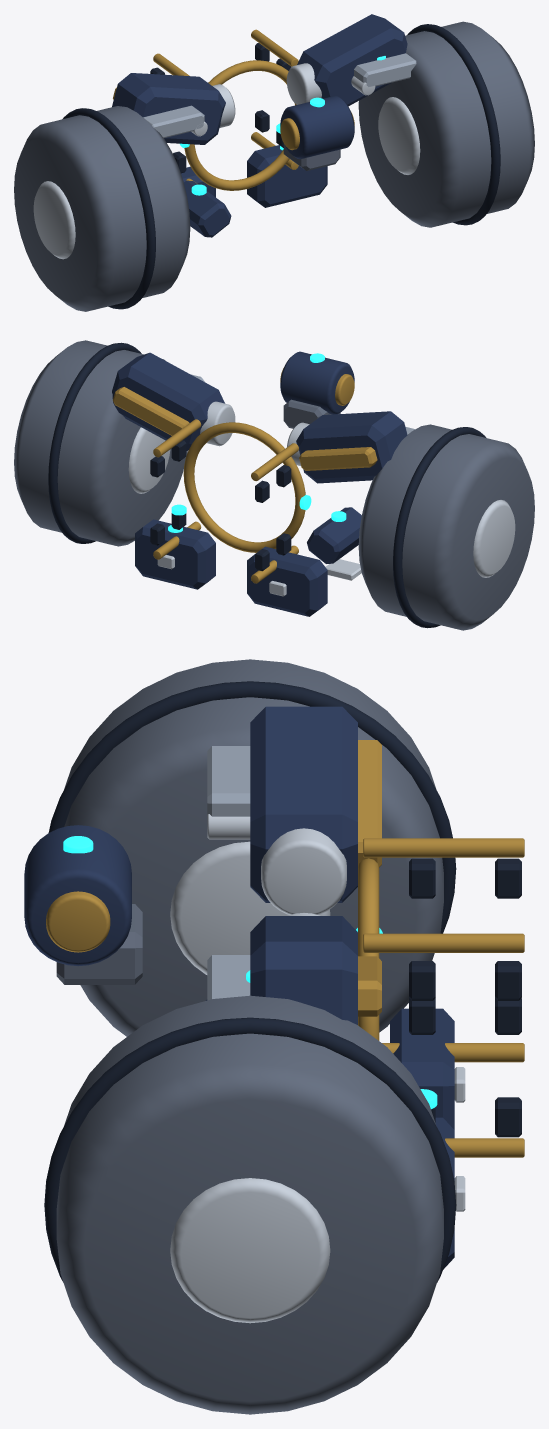
File: tower_skywatch_rate_s9.glb
The picture shows the model from 3 angles, top to bottom: view 1: azimuth 30°, elevation 25°; view 2: azimuth 150°, elevation 25°; view 3: azimuth 270°, elevation 25°; orthographic projection. The views are drawn at different scales.
Visible parts, largest first — view 1: skywatch_big_drum_r, skywatch_big_drum_l, skywatch_feed_cover_l, skywatch_feed_cover_r, skywatch_feed_motor, skywatch_belt_box-0.24, skywatch_big_drum_cap_r, skywatch_big_drum_cap_l, skywatch_big_drum_rib_l, skywatch_big_drum_rib_r, skywatch_cool_manifold, skywatch_eject_chute (+7 smaller); view 2: skywatch_big_drum_r, skywatch_big_drum_l, skywatch_feed_cover_r, skywatch_feed_cover_l, skywatch_belt_box0.24, skywatch_belt_box-0.24, skywatch_cool_manifold, skywatch_feed_motor, skywatch_big_drum_cap_r, skywatch_big_drum_rib_r, skywatch_big_drum_rib_l, skywatch_eject_chute (+10 smaller); view 3: skywatch_big_drum_l, skywatch_big_drum_r, skywatch_big_drum_cap_l, skywatch_feed_cover_r, skywatch_big_drum_rib_l, skywatch_feed_cover_l, skywatch_feed_motor, skywatch_big_drum_rib_r, skywatch_big_drum_cap_r, skywatch_feed_sprocket_r, skywatch_belt_box0.24, skywatch_cool_line3 (+18 smaller).
Part boxes in pixels (box(x1,y1,x2,y2)): skywatch_big_drum_r: box(14, 106, 190, 311); skywatch_big_drum_l: box(358, 21, 534, 227); skywatch_feed_cover_l: box(297, 14, 407, 106); skywatch_feed_cover_r: box(112, 73, 225, 144); skywatch_feed_motor: box(280, 96, 354, 159); skywatch_belt_box-0.24: box(247, 145, 327, 207); skywatch_big_drum_cap_r: box(33, 181, 75, 259); skywatch_big_drum_cap_l: box(378, 97, 420, 174); skywatch_big_drum_rib_l: box(407, 24, 500, 225); skywatch_big_drum_rib_r: box(62, 108, 155, 309); skywatch_cool_manifold: box(184, 60, 296, 190); skywatch_eject_chute: box(184, 180, 231, 237); skywatch_big_drum_r: box(358, 424, 534, 630); skywatch_big_drum_l: box(14, 340, 187, 546); skywatch_feed_cover_r: box(296, 411, 407, 483); skywatch_feed_cover_l: box(112, 352, 224, 450); skywatch_belt_box0.24: box(247, 546, 327, 616); skywatch_belt_box-0.24: box(135, 519, 215, 589); skywatch_cool_manifold: box(183, 422, 305, 552); skywatch_feed_motor: box(280, 351, 354, 414); skywatch_big_drum_cap_r: box(473, 500, 515, 577); skywatch_big_drum_rib_r: box(393, 427, 486, 628); skywatch_big_drum_rib_l: box(48, 342, 141, 543); skywatch_eject_chute: box(307, 507, 361, 563); skywatch_big_drum_l: box(56, 995, 443, 1414); skywatch_big_drum_r: box(64, 659, 443, 1036); skywatch_big_drum_cap_l: box(170, 1178, 330, 1323); skywatch_feed_cover_r: box(250, 706, 357, 902); skywatch_big_drum_rib_l: box(44, 1017, 456, 1282); skywatch_feed_cover_l: box(250, 916, 357, 1024); skywatch_feed_motor: box(24, 825, 131, 966); skywatch_big_drum_rib_r: box(48, 681, 456, 933); skywatch_big_drum_cap_r: box(170, 841, 330, 974); skywatch_feed_sprocket_r: box(261, 828, 346, 914); skywatch_belt_box0.24: box(390, 1008, 454, 1129); skywatch_cool_line3: box(363, 838, 524, 857).
Size of the model in its own units: 1.92 by 0.8198 by 0.93.
